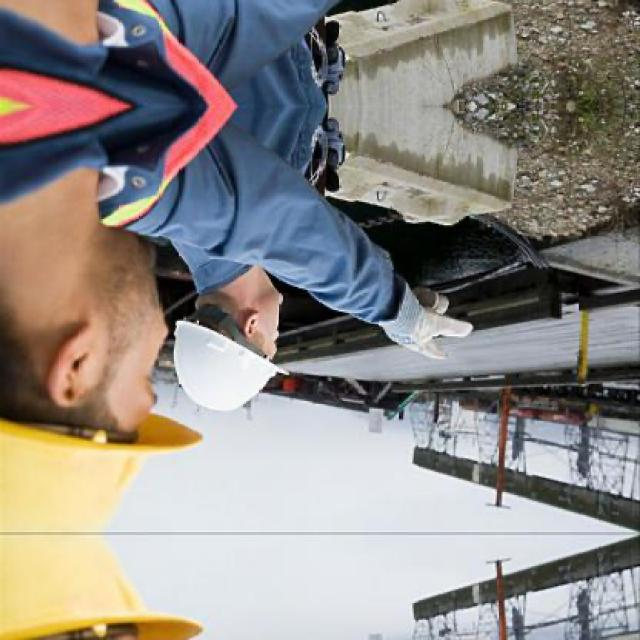con casco: (0, 197, 218, 495), (152, 258, 326, 418)
